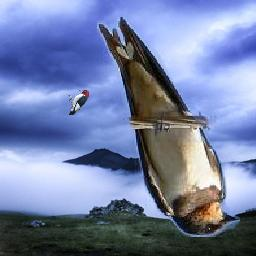Swallow: (98, 17, 241, 237)
Woodpecker: (67, 89, 90, 115)
